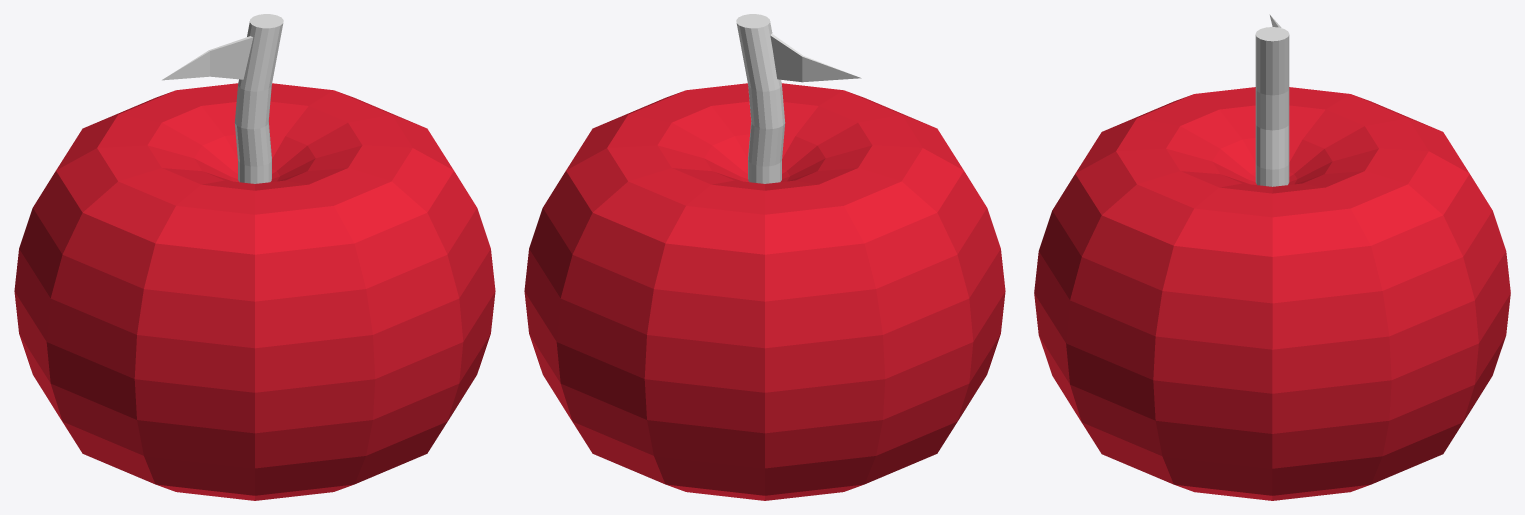
File: lowpoly_apple.fbx
The picture shows the model from 3 angles, left to right: view 1: azimuth 30°, elevation 25°; view 2: azimuth 150°, elevation 25°; view 3: azimuth 270°, elevation 25°; orthographic projection.
Visible parts, largest first — view 1: Sphere, Cylinder, Cube; view 2: Sphere, Cylinder, Cube; view 3: Sphere, Cylinder.
Boxes of the visible parts, x1,y1,x2,y2 form: Sphere: [14, 83, 495, 500]; Cylinder: [234, 14, 283, 183]; Cube: [162, 36, 253, 80]; Sphere: [524, 83, 1005, 500]; Cylinder: [736, 14, 785, 183]; Cube: [770, 34, 861, 82]; Sphere: [1034, 87, 1510, 500]; Cylinder: [1255, 27, 1289, 186].
Size of the model in its own units: 200 by 189 by 200.
